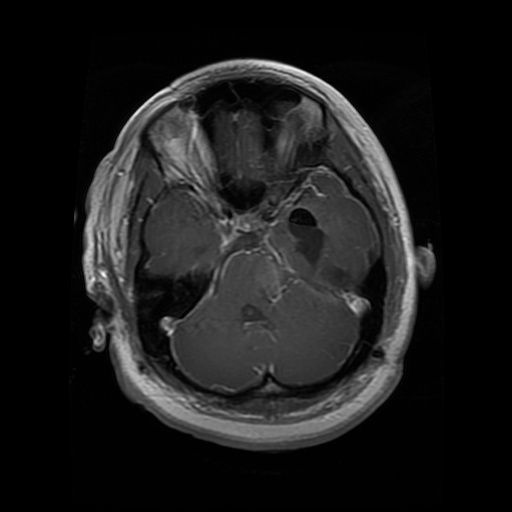glioma: (285, 205, 323, 265)
